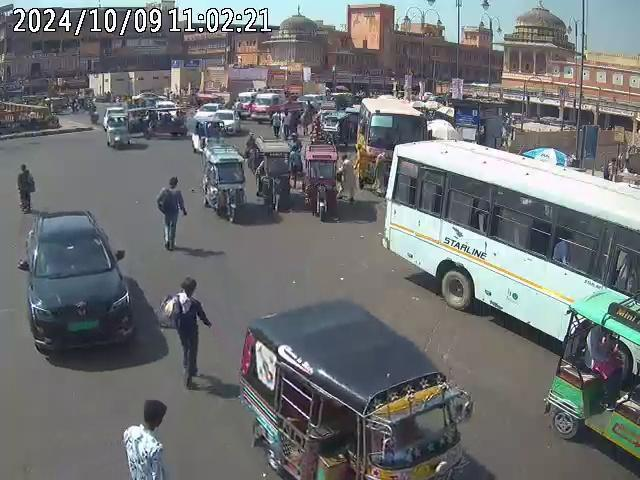auto: (237, 299, 473, 478), (543, 290, 639, 476), (200, 141, 247, 220), (251, 136, 294, 218), (304, 140, 339, 220), (104, 112, 134, 151)
bus: (382, 136, 639, 355), (360, 98, 428, 172)
car: (21, 207, 137, 356)
license_plate: (67, 320, 102, 332)
person: (161, 277, 212, 389), (120, 399, 168, 479), (156, 176, 187, 250), (17, 163, 35, 213), (553, 235, 571, 267)
